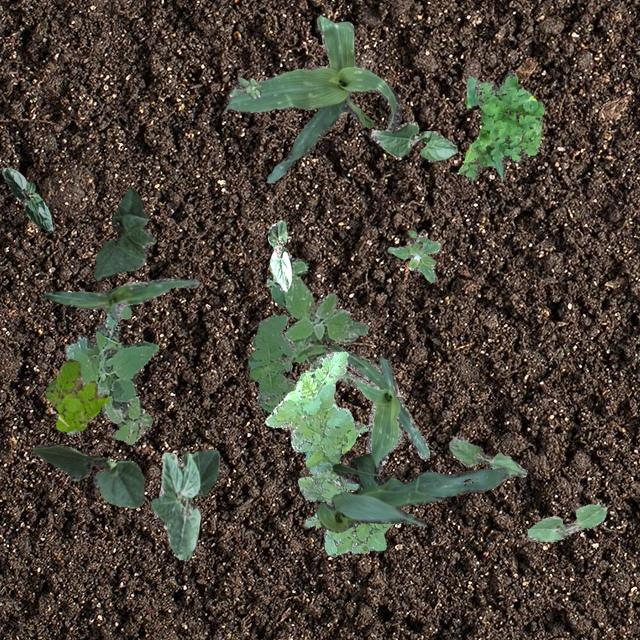crop: (222, 14, 400, 182), (314, 452, 508, 532), (328, 344, 428, 488), (150, 448, 218, 560), (32, 442, 144, 507), (44, 278, 198, 320), (92, 188, 154, 280), (369, 120, 456, 160), (0, 166, 52, 232), (526, 501, 606, 542), (448, 434, 526, 476), (266, 218, 290, 290)
weed: (264, 350, 391, 556), (64, 304, 158, 444), (266, 246, 368, 372), (458, 70, 542, 180), (248, 314, 296, 412), (44, 358, 108, 430), (386, 230, 439, 282), (228, 76, 260, 98)
